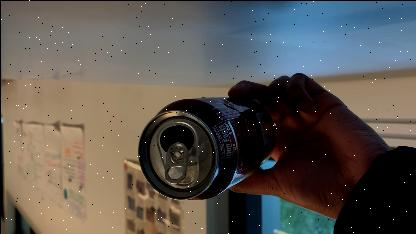Can: (133, 86, 277, 201)
